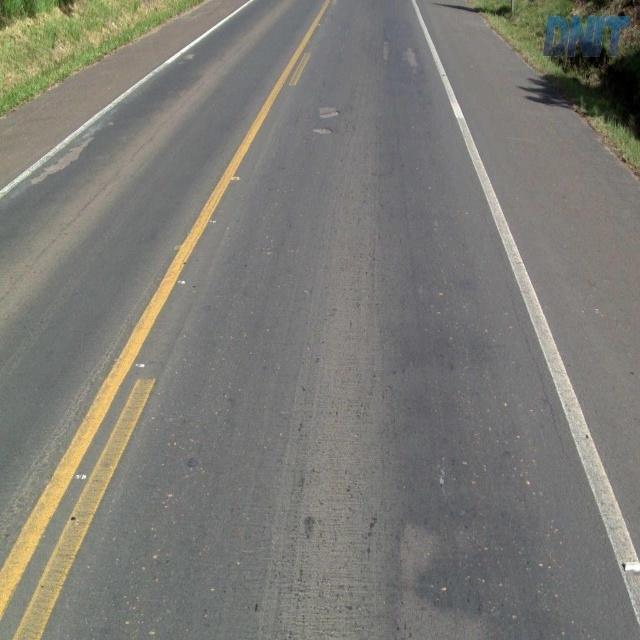pothole: (313, 105, 340, 134)
